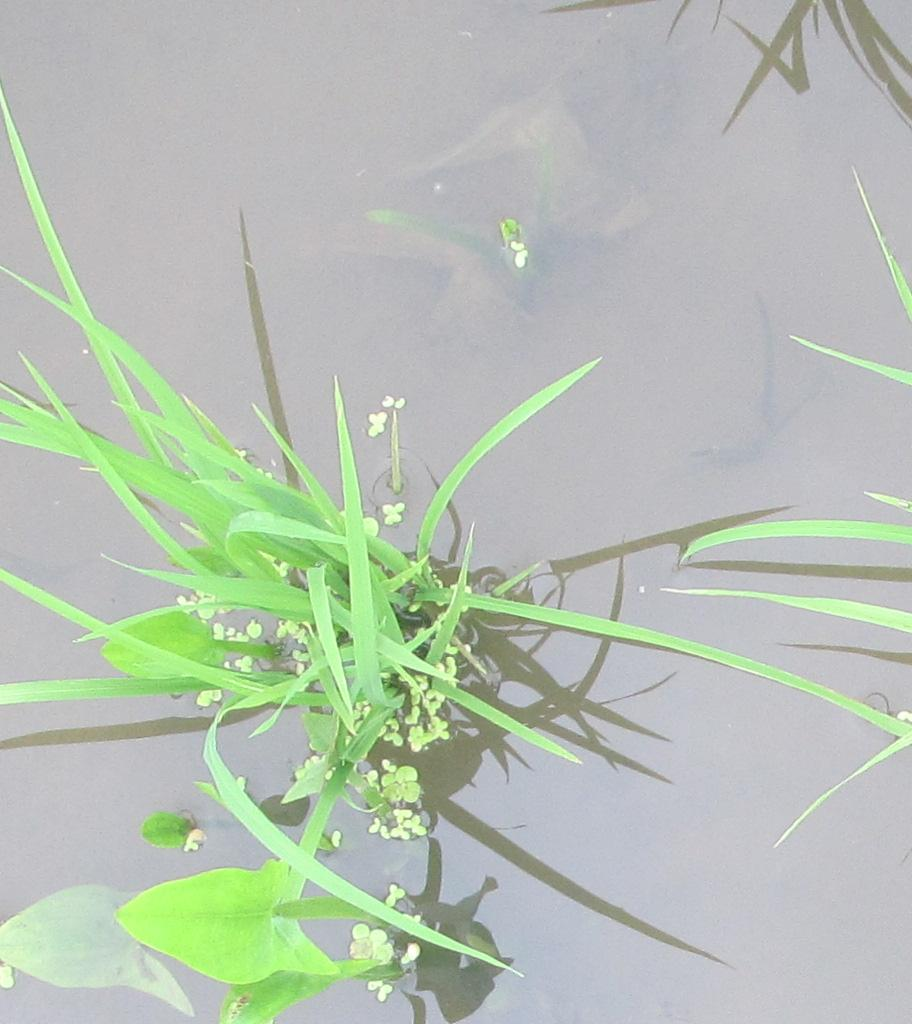Weed: (113, 861, 349, 994), (89, 600, 242, 702)
